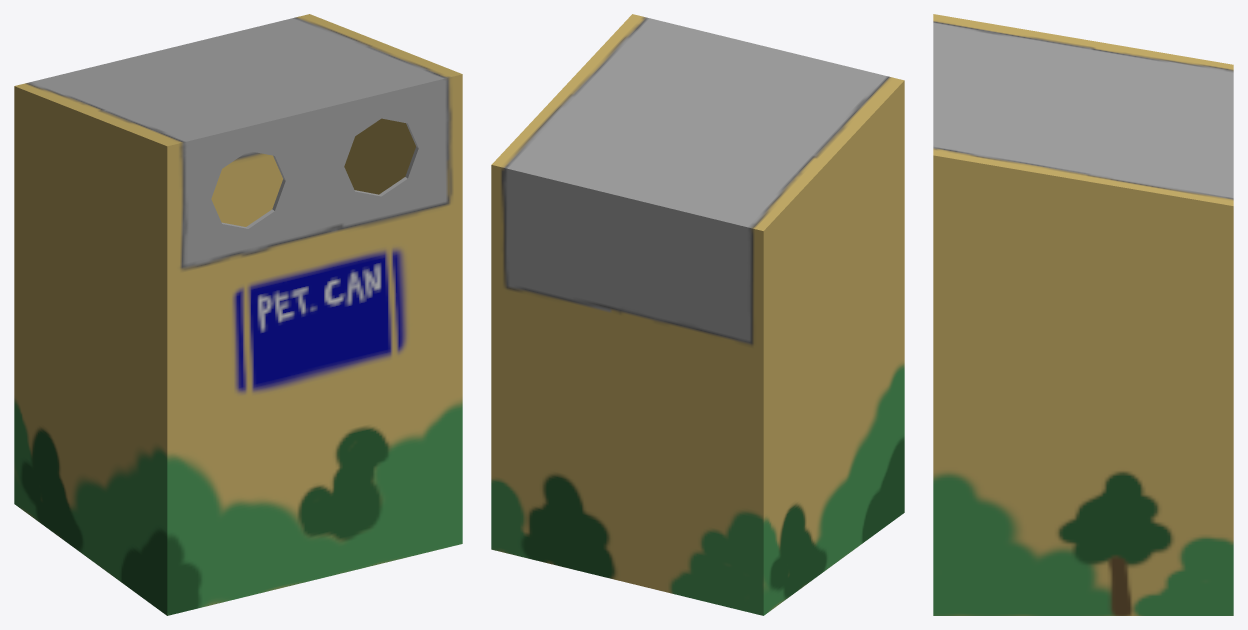
File: TrashBox001.fbx
3 renders of one model, left to right at view 1: azimuth 30°, elevation 25°; view 2: azimuth 150°, elevation 25°; view 3: azimuth 270°, elevation 25°, orthographic. The views are drawn at different scales.
Parts seen in each view (by area): view 1: trashbox1; view 2: trashbox1; view 3: trashbox1.
Part boxes in pixels (x1,y1,x2,y2): trashbox1: [14, 14, 462, 615]; trashbox1: [491, 14, 904, 615]; trashbox1: [933, 14, 1233, 615].
Size of the model in its own units: 0.0371 by 0.0563 by 0.0332.
1 material, 1 textured.
